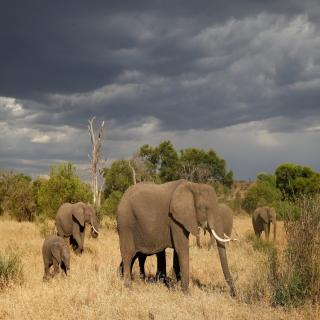Elephant: (115, 178, 244, 296), (52, 200, 100, 255), (41, 234, 72, 286), (251, 202, 281, 245)
